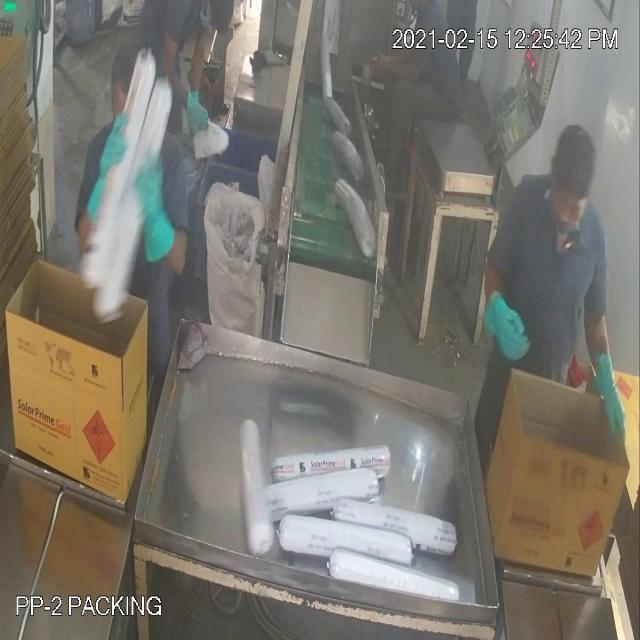Gloves: (39, 40, 610, 392)
